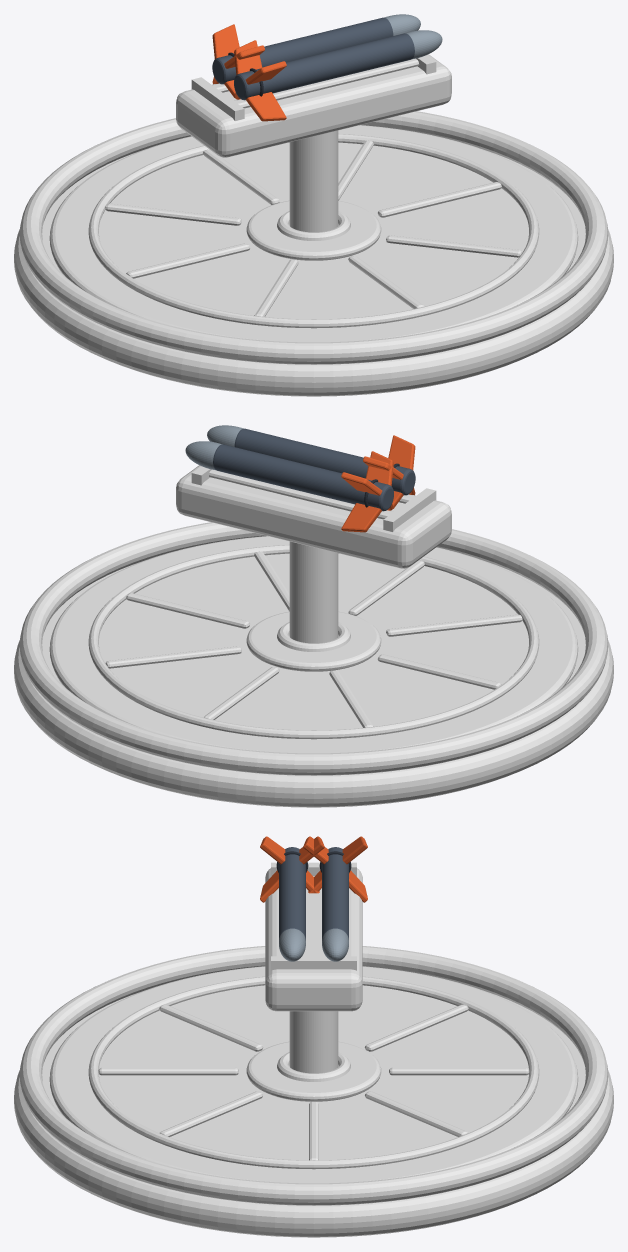
File: Trap_Base_Disc_Dual_Launcher_Loaded.fbx
The picture shows the model from 3 angles, top to bottom: view 1: azimuth 30°, elevation 25°; view 2: azimuth 150°, elevation 25°; view 3: azimuth 270°, elevation 25°; orthographic projection.
Visible parts, largest first — view 1: Inset_Top_Plate, Outer_Warning_Ring, Trap_Base_Disc, Dual_Missile_Launcher_Body, Inner_Groove_Ring, Launcher_Rotating_Pylon, Missile_01_Body, Center_Trigger_Pad, Missile_02_Body, Missile_01, Missile_Rail_1, Missile_02 (+12 smaller); view 2: Inset_Top_Plate, Outer_Warning_Ring, Trap_Base_Disc, Dual_Missile_Launcher_Body, Inner_Groove_Ring, Launcher_Rotating_Pylon, Missile_02_Body, Center_Trigger_Pad, Missile_01_Body, Missile_02, Missile_Rail_2, Missile_01 (+12 smaller); view 3: Inset_Top_Plate, Outer_Warning_Ring, Trap_Base_Disc, Inner_Groove_Ring, Dual_Missile_Launcher_Body, Center_Trigger_Pad, Launcher_Rotating_Pylon, Missile_01_Body, Missile_02_Body, Radial_Lock_03, Radial_Lock_07, Missile_01 (+10 smaller).
Boxes of the visible parts, <box> form: Inset_Top_Plate: <box>49,125,578,342</box>; Outer_Warning_Ring: <box>19,111,608,364</box>; Trap_Base_Disc: <box>14,152,613,396</box>; Dual_Missile_Launcher_Body: <box>176,54,451,157</box>; Inner_Groove_Ring: <box>88,133,539,328</box>; Launcher_Rotating_Pylon: <box>289,130,338,232</box>; Missile_01_Body: <box>234,33,414,100</box>; Center_Trigger_Pad: <box>246,200,381,260</box>; Missile_02_Body: <box>212,17,393,84</box>; Missile_01: <box>234,40,286,121</box>; Missile_Rail_1: <box>234,58,418,108</box>; Missile_02: <box>212,24,264,99</box>; Inset_Top_Plate: <box>49,536,578,753</box>; Outer_Warning_Ring: <box>19,522,608,775</box>; Trap_Base_Disc: <box>14,563,613,807</box>; Dual_Missile_Launcher_Body: <box>176,465,451,568</box>; Inner_Groove_Ring: <box>88,544,539,739</box>; Launcher_Rotating_Pylon: <box>289,541,338,643</box>; Missile_02_Body: <box>213,444,393,511</box>; Center_Trigger_Pad: <box>246,611,381,671</box>; Missile_01_Body: <box>234,428,415,495</box>; Missile_02: <box>341,451,393,532</box>; Missile_Rail_2: <box>209,469,393,519</box>; Missile_01: <box>363,435,415,510</box>; Inset_Top_Plate: <box>49,966,578,1183</box>; Outer_Warning_Ring: <box>19,946,608,1205</box>; Trap_Base_Disc: <box>14,994,613,1237</box>; Inner_Groove_Ring: <box>88,976,539,1169</box>; Dual_Missile_Launcher_Body: <box>265,868,362,1011</box>; Center_Trigger_Pad: <box>246,1041,381,1101</box>; Launcher_Rotating_Pylon: <box>289,1011,338,1073</box>; Missile_01_Body: <box>279,847,305,940</box>; Missile_02_Body: <box>322,847,348,940</box>; Radial_Lock_03: <box>389,1067,529,1075</box>; Radial_Lock_07: <box>98,1067,238,1075</box>; Missile_01: <box>260,836,324,902</box>.
Size of the model in its own units: 6.4 by 2.89 by 6.4.
